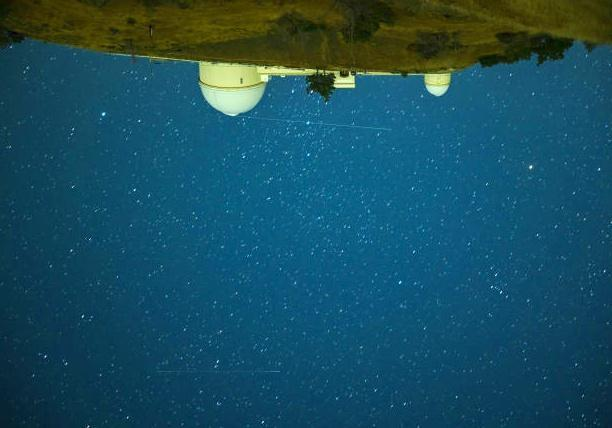meteorite: (228, 111, 407, 140), (150, 362, 298, 383)
